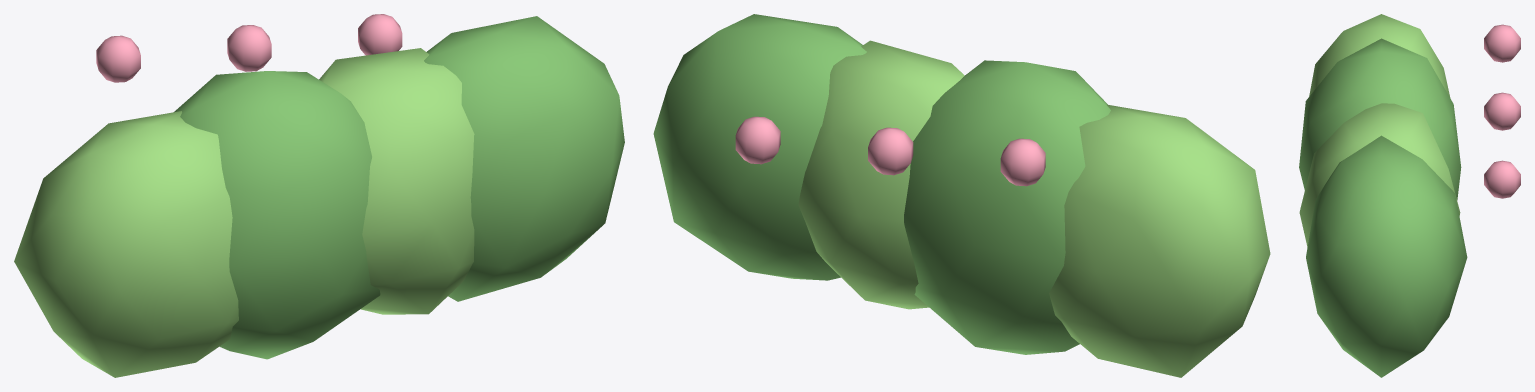
File: Forest_Bush1.fbx
3 renders of one model, left to right at view 1: azimuth 30°, elevation 25°; view 2: azimuth 150°, elevation 25°; view 3: azimuth 270°, elevation 25°, orthographic. The views are drawn at different scales.
Visible parts, largest first — view 1: Forest_Bush1; view 2: Forest_Bush1; view 3: Forest_Bush1.
Part boxes in pixels (x1,y1,x2,y2): Forest_Bush1: (14,14,624,377); Forest_Bush1: (653,14,1270,377); Forest_Bush1: (1299,14,1520,377).
Bounding box in the file's own units: 2.92 × 1.37 × 1.19.
